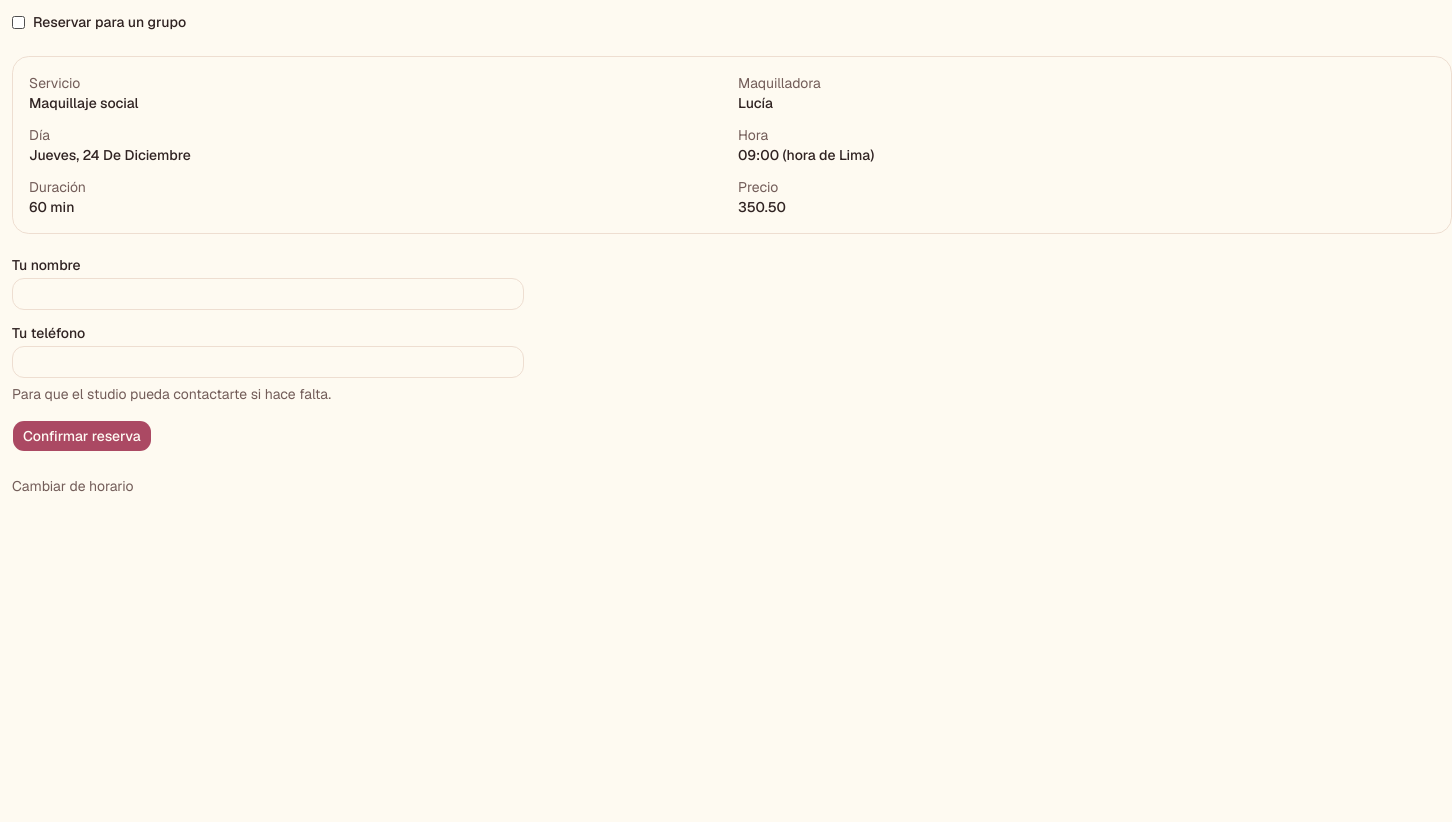
Test case: respuestas del servidor › si falla un campo de la selección pide volver a elegir el horario
Step 1. Click the button "Confirmar reserva" → x=82, y=436, box [12, 420, 152, 452]
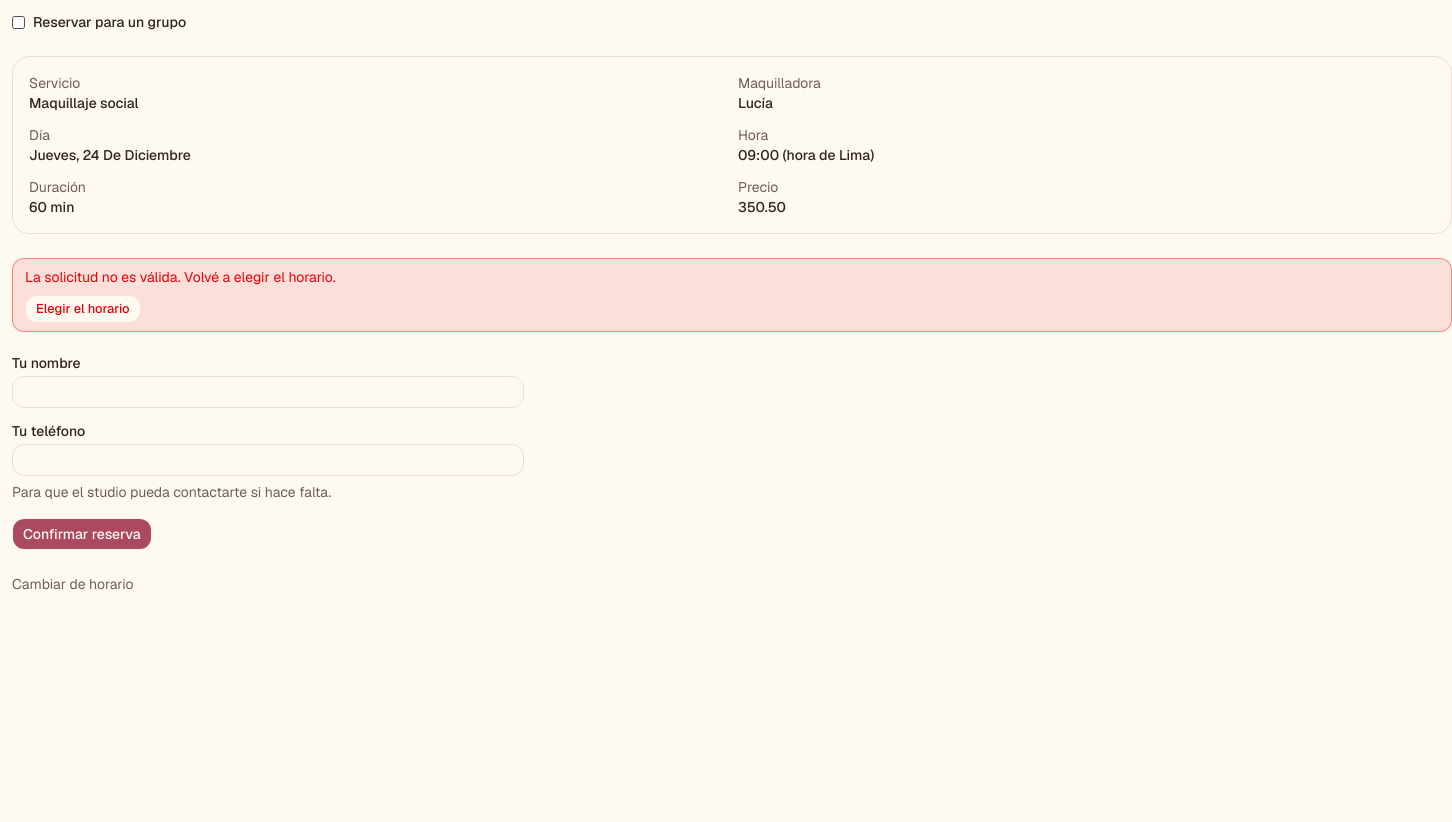
Now the message shows "Volvé a elegir el horario", box [25, 268, 336, 286]
